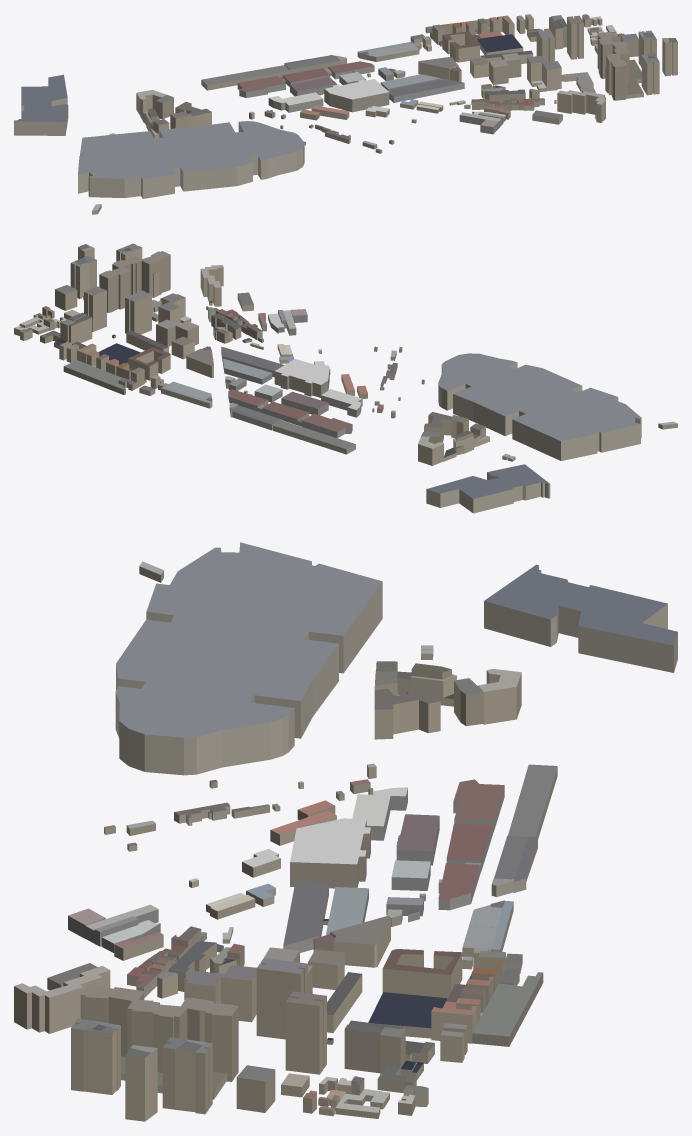
3 renders of one model, top to bottom at view 1: azimuth 30°, elevation 25°; view 2: azimuth 150°, elevation 25°; view 3: azimuth 270°, elevation 25°, orthographic. The views are drawn at different scales.
Parts seen in each view (by area): view 1: tuile; view 2: tuile; view 3: tuile.
Boxes of the visible parts, left/top/right/bottom form: tuile: left=14, top=14, right=677, bottom=214; tuile: left=14, top=243, right=677, bottom=513; tuile: left=14, top=542, right=677, bottom=1121.
Size of the model in its own units: 987 by 59.27 by 499.
